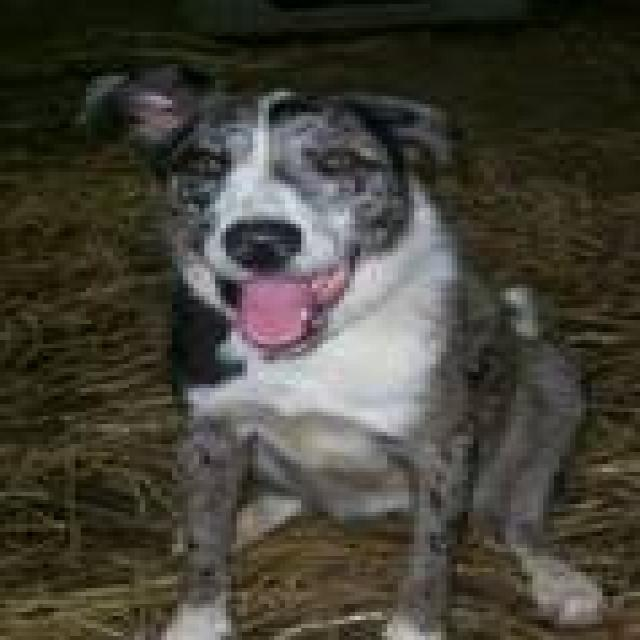Dog: (54, 48, 452, 363)
